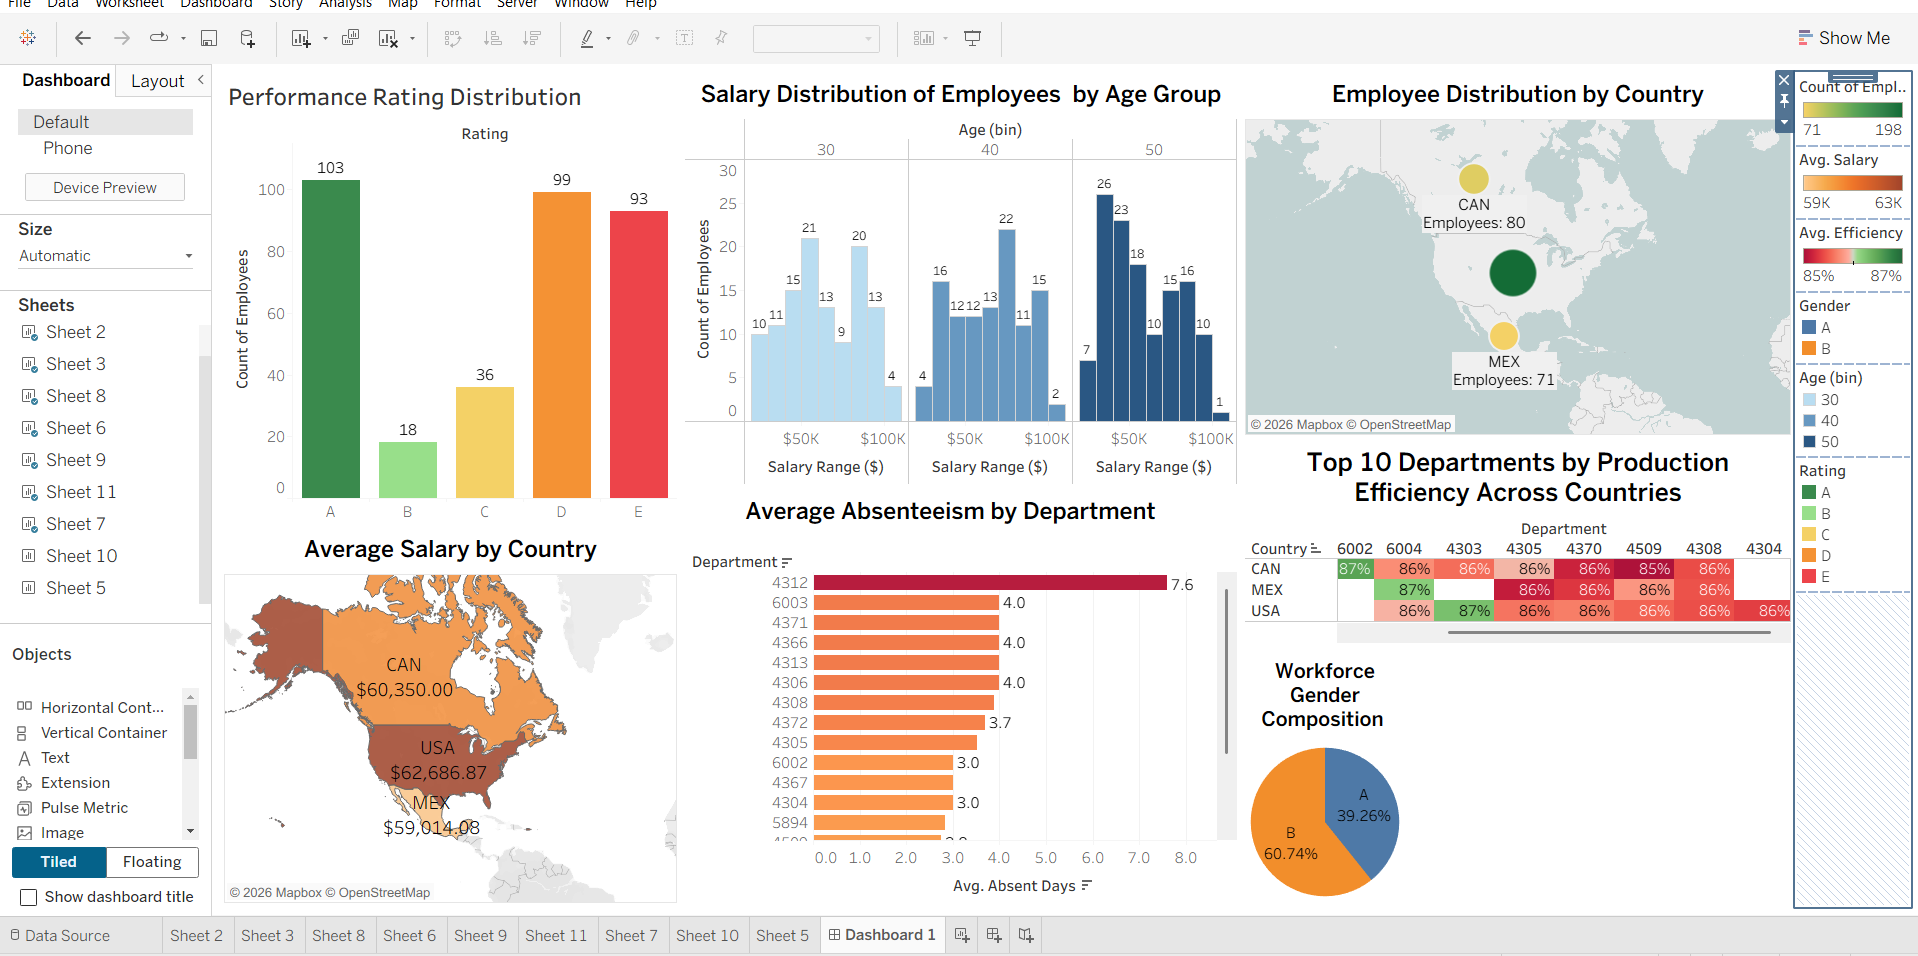

The page's visual inventory and layout, read from the dashboard file:
{"tool":"tableau","page":{"name":"Dashboard 1","canvas":[1000,1000],"units":"permille","ordinal":0},"visuals":[{"type":"title","box":[4.2,9.4,991.5,51.7]},{"type":"worksheet","title":"Sheet 3","mark":"Automatic","rows":["Employees_C9F907B91CCB4B4CAD0E54FD5A25EA20"],"cols":["Rating"],"box":[4.2,61.1,245.8,506.5]},{"type":"worksheet","title":"Sheet 6","mark":"Bar","rows":["Employees_C9F907B91CCB4B4CAD0E54FD5A25EA20"],"cols":["Age (bin)","Salary (bin)"],"box":[250,61.1,351,464.2]},{"type":"worksheet","title":"Sheet 2","mark":"Automatic","box":[601,61.1,328,337.3]},{"type":"legend","title":"Sheet 2","param":"[federated.1uwsy0t0q8j4g01disyi80l3evir].[__tableau_internal_object_id__].[cnt:E","box":[929,61.1,66.7,85.8]},{"type":"legend","title":"Sheet 9","param":"[federated.1uwsy0t0q8j4g01disyi80l3evir].[avg:Salary:qk]","box":[929,146.9,66.7,85.8]},{"type":"legend","title":"Sheet 11","param":"[federated.1uwsy0t0q8j4g01disyi80l3evir].[avg:Calculation_1436841725890560:qk]","box":[929,232.7,66.7,85.8]},{"type":"legend","title":"Sheet 7","param":"[federated.1uwsy0t0q8j4g01disyi80l3evir].[none:Gender:nk]","box":[929,318.4,66.7,84.6]},{"type":"worksheet","title":"Sheet 11","mark":"Square","rows":["Country"],"cols":["Department"],"box":[601,398.4,328,229.1]},{"type":"legend","title":"Sheet 6","param":"[federated.1uwsy0t0q8j4g01disyi80l3evir].[none:Age (bin):ok]","box":[929,403.1,66.7,109.3]},{"type":"legend","title":"Sheet 3","param":"[federated.1uwsy0t0q8j4g01disyi80l3evir].[none:Rating:nk]","box":[929,512.3,66.7,158.6]},{"type":"worksheet","title":"Sheet 8","mark":"Automatic","rows":["Department"],"cols":["Absent Days"],"box":[250,525.3,351,465.3]},{"type":"worksheet","title":"Sheet 9","mark":"Automatic","box":[4.2,567.6,245.8,423]},{"type":"worksheet","title":"Sheet 12","mark":"Circle","rows":["Calculation_1436841735057409"],"cols":["Manager"],"box":[601,627.5,159.4,363.1]},{"type":"worksheet","title":"Sheet 7","mark":"Pie","box":[760.5,627.5,168.6,363.1]},{"type":"legend","title":"Sheet 12","param":"[federated.1uwsy0t0q8j4g01disyi80l3evir].[avg:Calculation_1436841735057409:qk]","box":[929,671,66.7,85.8]}]}

Visuals, with their boxes on the dashboard's canvas, which has no fixed pixel size, in thousandths of its width and height (x1, y1, x2, y2). These are canvas units, not pixel positions in the 1918x956 screenshot, which may show the page scaled, cropped or inside an application window:
title: (4,9,996,61)
"Sheet 3" worksheet: (4,61,250,568)
"Sheet 6" worksheet (Bar marks): (250,61,601,525)
"Sheet 2" worksheet: (601,61,929,398)
"Sheet 2" legend: (929,61,996,147)
"Sheet 9" legend: (929,147,996,233)
"Sheet 11" legend: (929,233,996,318)
"Sheet 7" legend: (929,318,996,403)
"Sheet 11" worksheet (Square marks): (601,398,929,628)
"Sheet 6" legend: (929,403,996,512)
"Sheet 3" legend: (929,512,996,671)
"Sheet 8" worksheet: (250,525,601,991)
"Sheet 9" worksheet: (4,568,250,991)
"Sheet 12" worksheet (Circle marks): (601,628,760,991)
"Sheet 7" worksheet (Pie marks): (760,628,929,991)
"Sheet 12" legend: (929,671,996,757)
